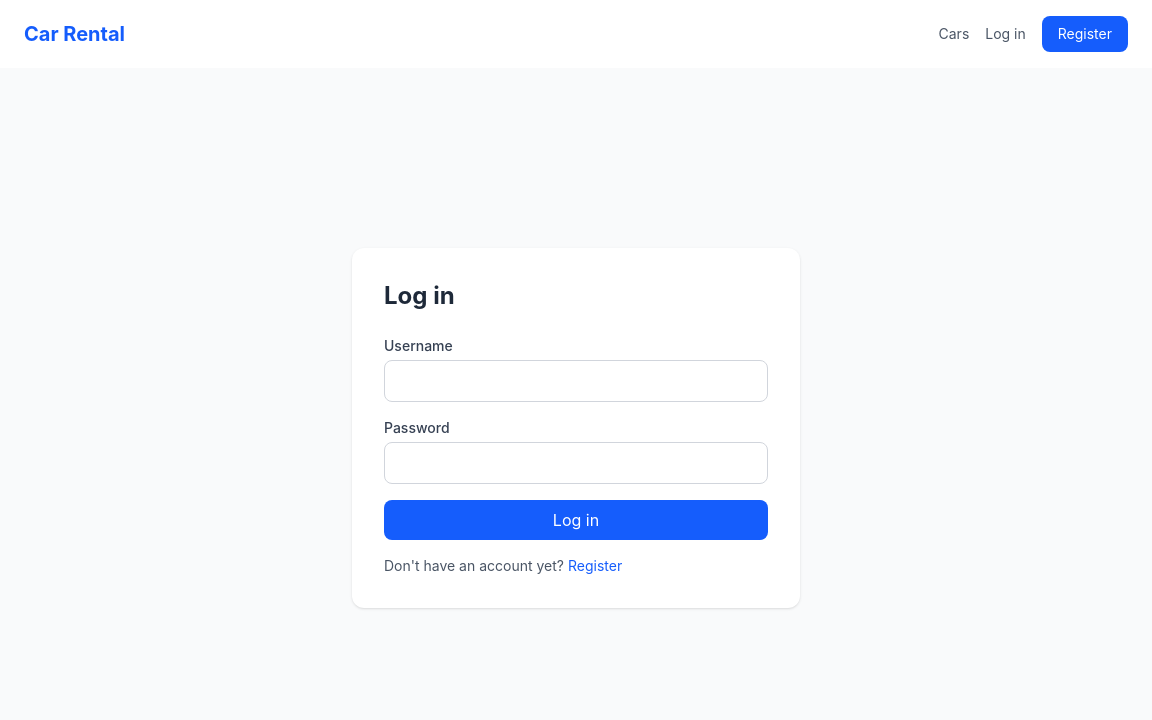
Test: Login page › shows error on invalid credentials
This screenshot has width=1152, height=720.
Type "wronguser" into the field at [576, 381], box [384, 360, 768, 402]
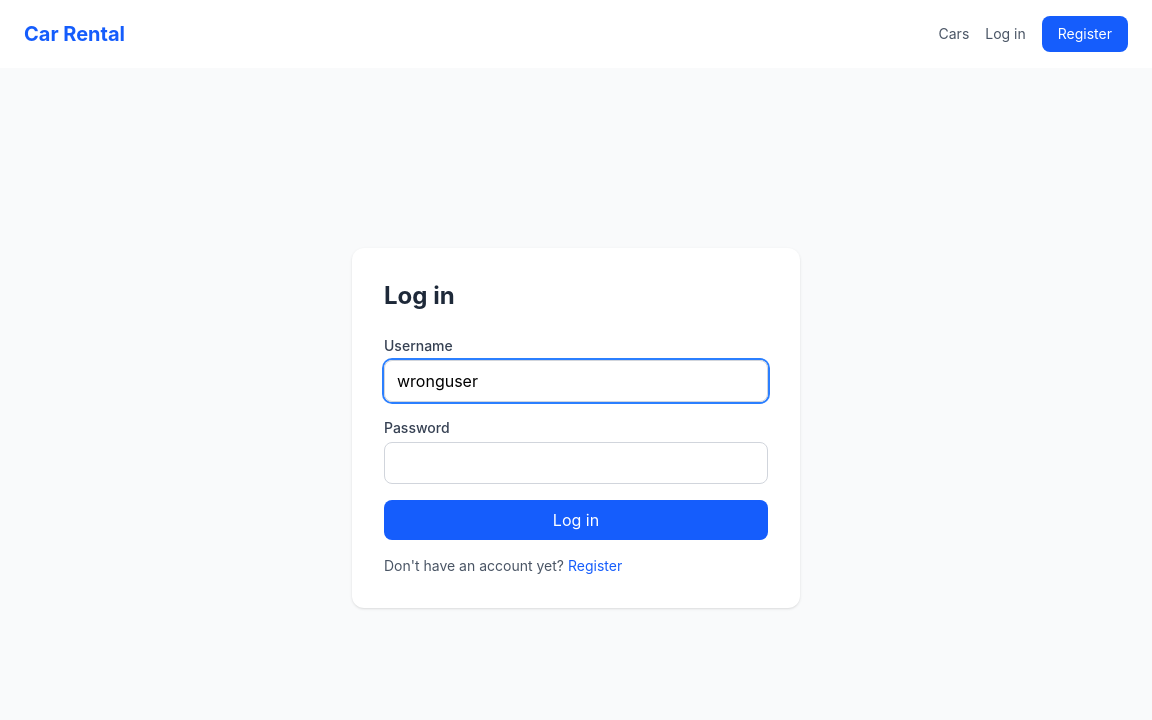
Type "wrongpass" into the password field at [576, 463], box [384, 442, 768, 484]
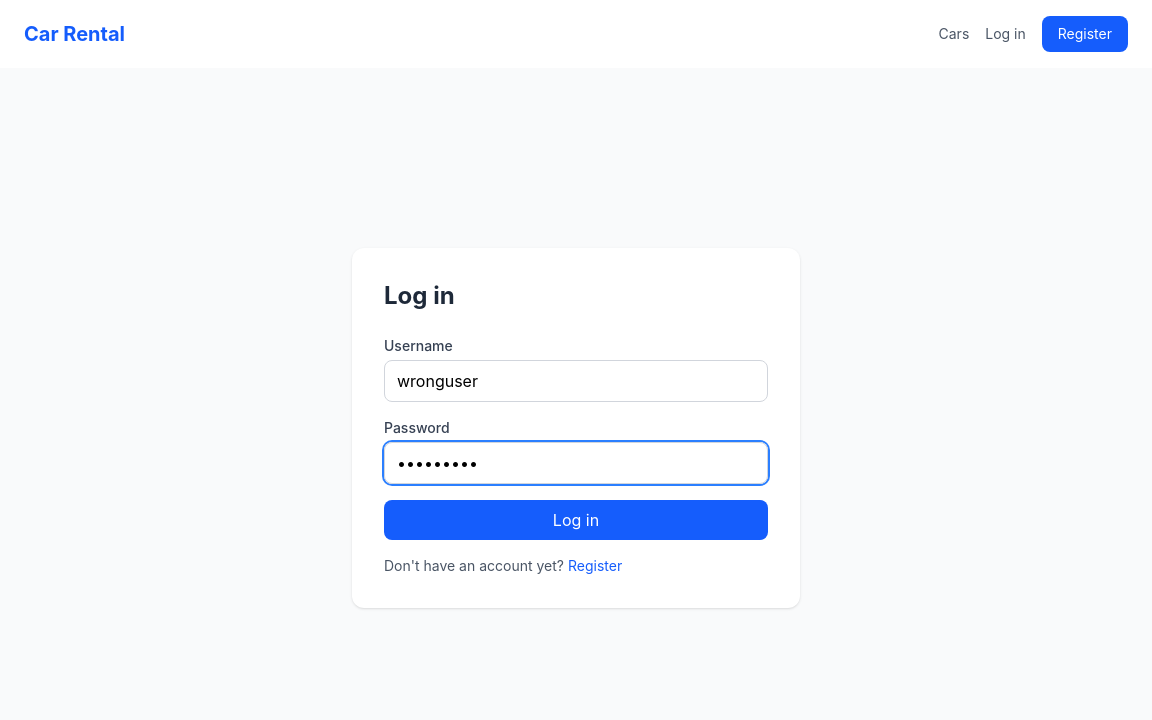
Click the submit button at [576, 520], box [384, 500, 768, 540]
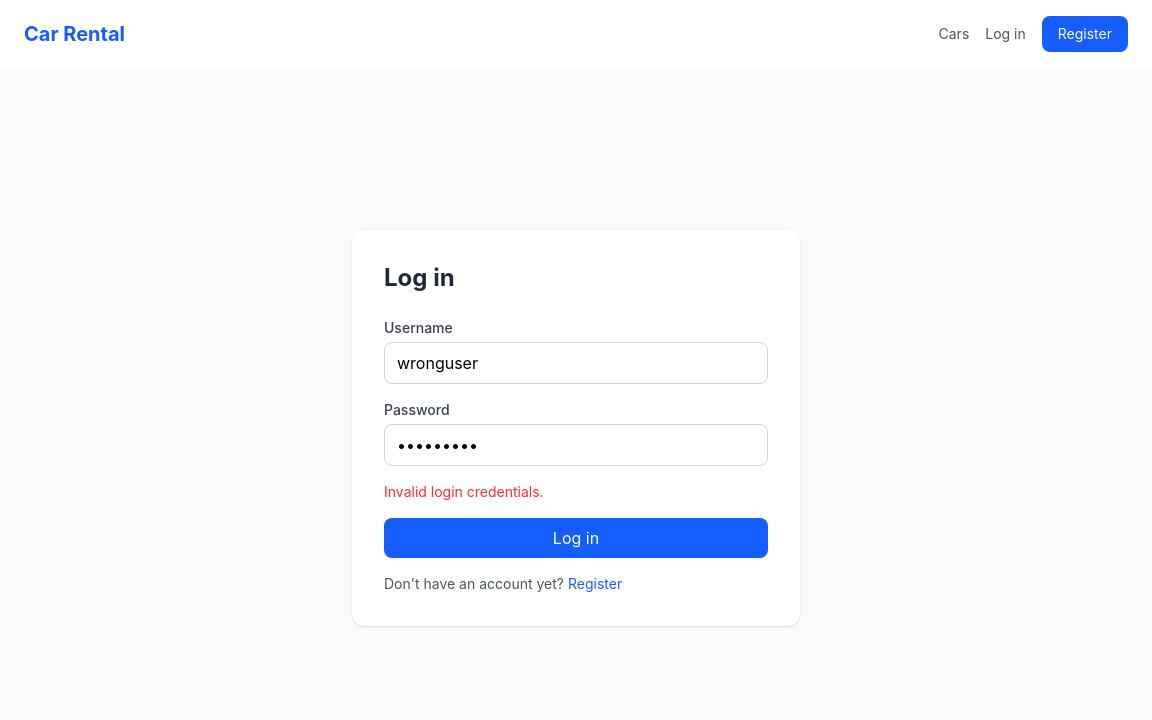
Now the text "Invalid login credentials." is shown, box [384, 483, 544, 500]
